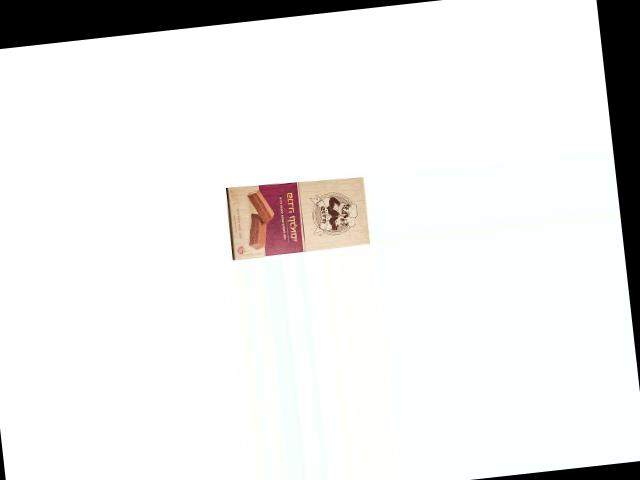chocolate: (224, 170, 371, 258)
